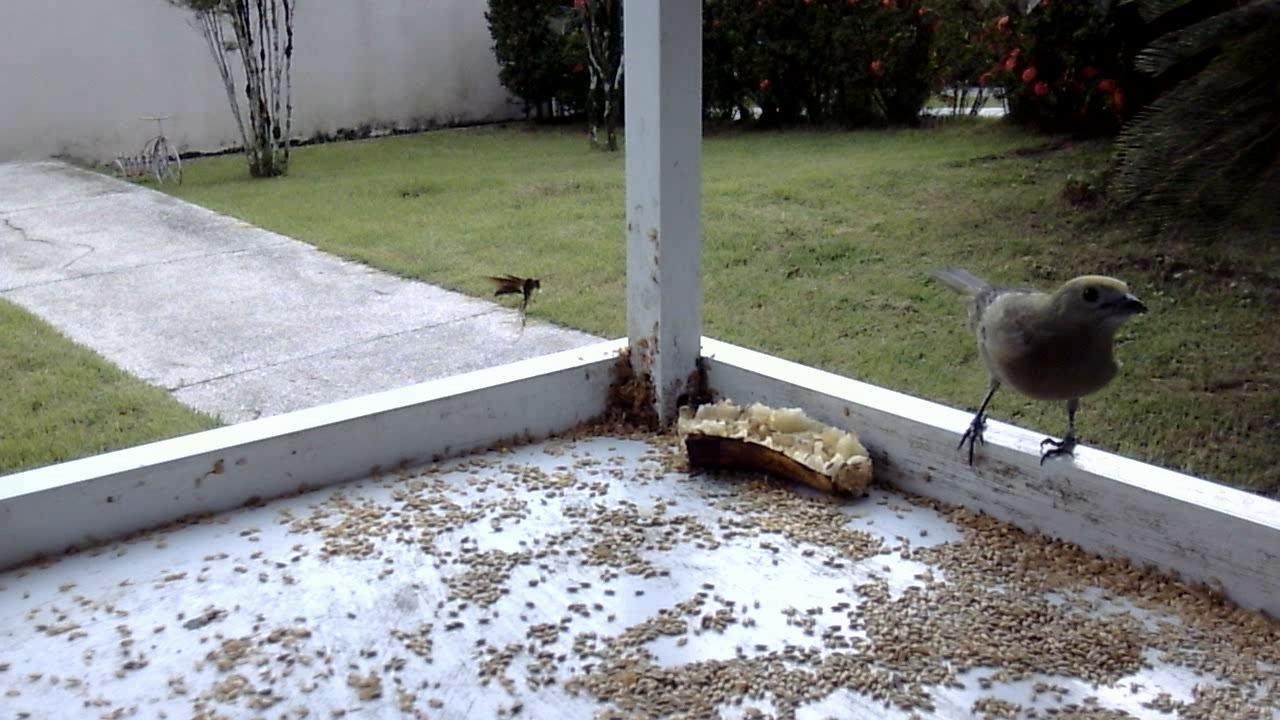sanhaco_do_coqueiro: (915, 256, 1149, 478)
